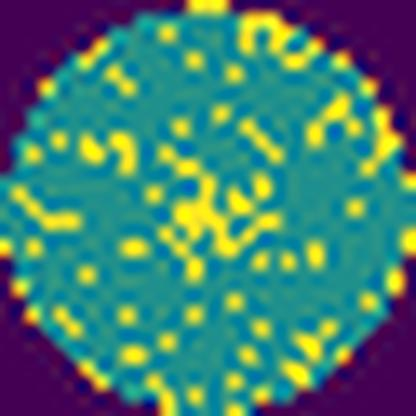Center: (150, 136, 288, 283)
